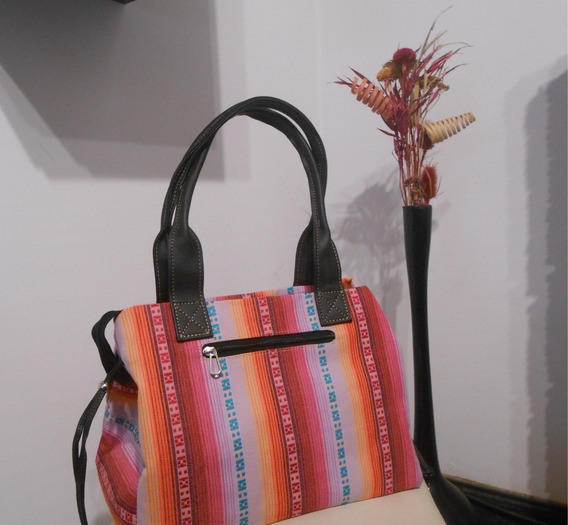cartera: (95, 95, 424, 525)
